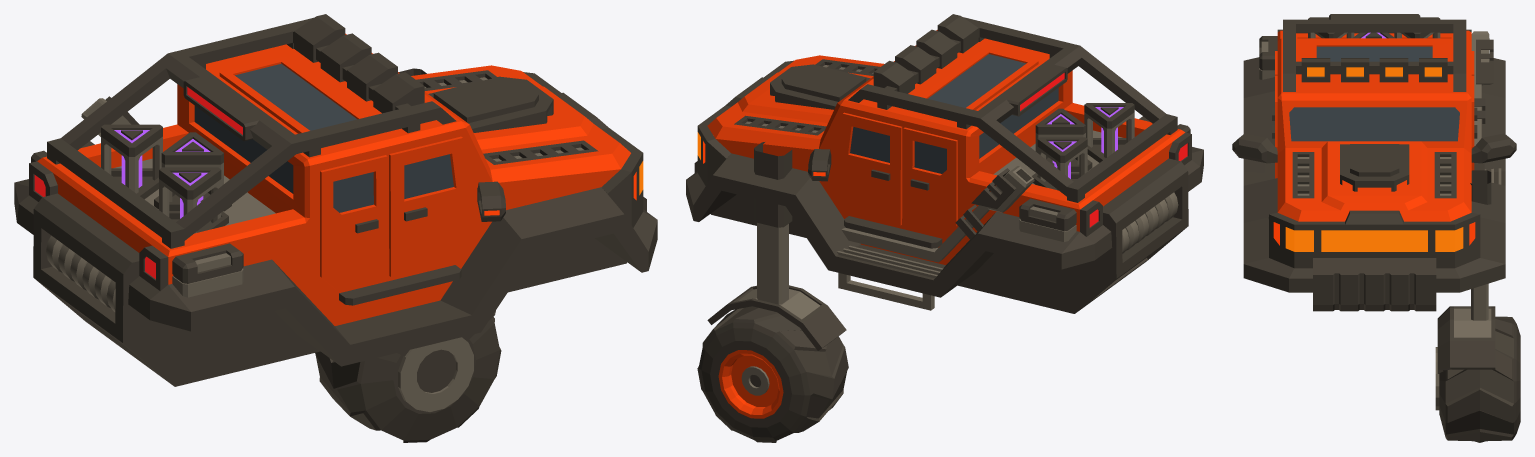
3 renders of one model, left to right at view 1: azimuth 30°, elevation 25°; view 2: azimuth 150°, elevation 25°; view 3: azimuth 270°, elevation 25°, orthographic. The views are drawn at different scales.
Parts seen in each view (by area): view 1: bodyBlack, bodyRed, wheel.001, glass, wheelGuard.002, energy, wheelGuard, cellsTop, cellsTop.002, cellsTop.001, cellsCage, bodyMetal (+3 smaller); view 2: bodyBlack, bodyRed, wheel.001, bodyMetal, glass, wheel.002, Cylinder.016, wheelGuard, Cylinder.023, energy, cellsTop.001, cellsTop (+6 smaller); view 3: bodyBlack, bodyRed, glass, wheel.001, headlights, wheelGuard, wheelGuard.002, bodyMetal, Cylinder.023, Cylinder.016, energy.
Part boxes in pixels (box(x1,y1,x2,y2)): bodyBlack: box(14, 14, 657, 386); bodyRed: box(37, 33, 630, 325); wheel.001: box(315, 317, 501, 442); glass: box(194, 63, 453, 212); wheelGuard.002: box(398, 337, 473, 411); energy: box(46, 77, 583, 311); wheelGuard: box(397, 310, 495, 392); cellsTop: box(101, 124, 162, 156); cellsTop.002: box(159, 167, 221, 199); cellsTop.001: box(161, 132, 223, 164); cellsCage: box(101, 136, 162, 193); bodyMetal: box(81, 98, 243, 297); bodyBlack: box(686, 14, 1203, 313); bodyRed: box(707, 30, 1185, 264); wheel.001: box(697, 306, 848, 442); bodyMetal: box(837, 166, 1076, 310); glass: box(850, 54, 1058, 173); wheel.002: box(718, 350, 783, 418); Cylinder.016: box(757, 222, 788, 304); wheelGuard: box(707, 285, 846, 350); Cylinder.023: box(754, 142, 792, 227); energy: box(745, 65, 1178, 253); cellsTop.001: box(1035, 108, 1085, 134); cellsTop: box(1037, 137, 1087, 162); bodyBlack: box(1232, 14, 1516, 311); bodyRed: box(1275, 30, 1474, 221); glass: box(1289, 46, 1459, 141); wheel.001: box(1439, 316, 1520, 442); headlights: box(1285, 67, 1463, 251); wheelGuard: box(1437, 306, 1495, 373); wheelGuard.002: box(1435, 308, 1491, 410); bodyMetal: box(1259, 31, 1501, 184); Cylinder.023: box(1470, 170, 1491, 204); Cylinder.016: box(1471, 283, 1488, 320); energy: box(1261, 41, 1451, 195).
Size of the model in its own units: 2.99 by 2.48 by 1.91.
